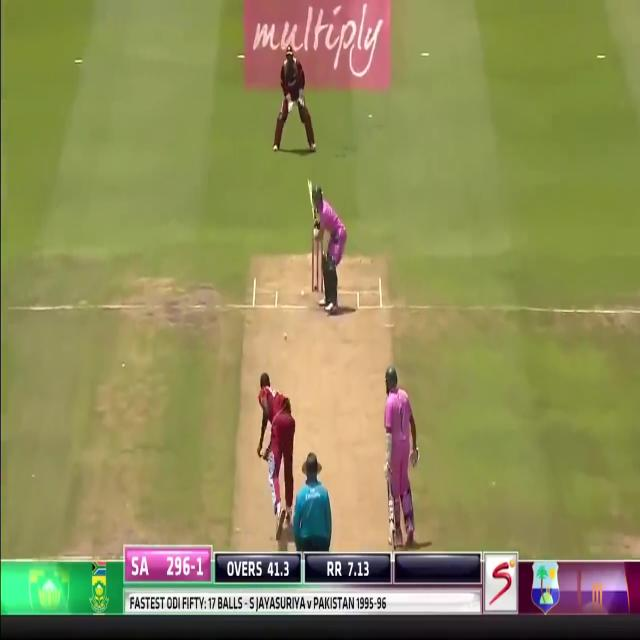Ball: (382, 366, 420, 550), (311, 185, 346, 311)
Fielder: (256, 372, 298, 544), (277, 38, 309, 154)
Umpire: (292, 454, 332, 556)
